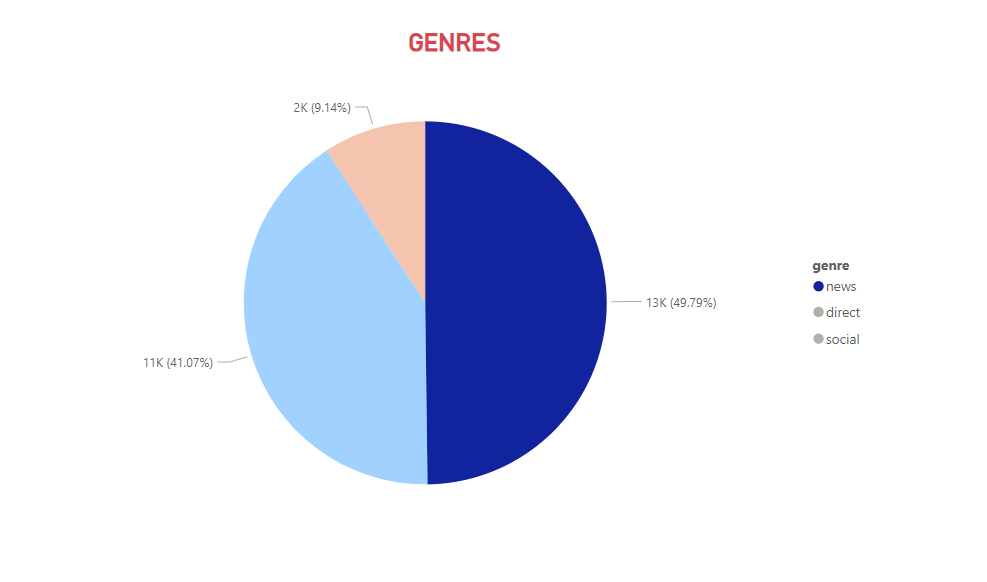

What the dashboard file says about the page in this screenshot:
{"tool":"powerbi","page":{"name":"Page 2","canvas":[1280,720],"ordinal":1},"visuals":[{"type":"pieChart","title":"GENRES","fields":{"Category":["genre_counts.genre"],"Y":["Sum(genre_counts.message)"]},"box":[183.8,108.9,819.9,507.7],"z":0}]}

Visuals, with their boxes on the page's 1280x720 design canvas (x1, y1, x2, y2). These are canvas units, not pixel positions in the 987x582 screenshot, which may show the page scaled, cropped or inside an application window:
"GENRES" pieChart: <bbox>184, 109, 1004, 617</bbox>
